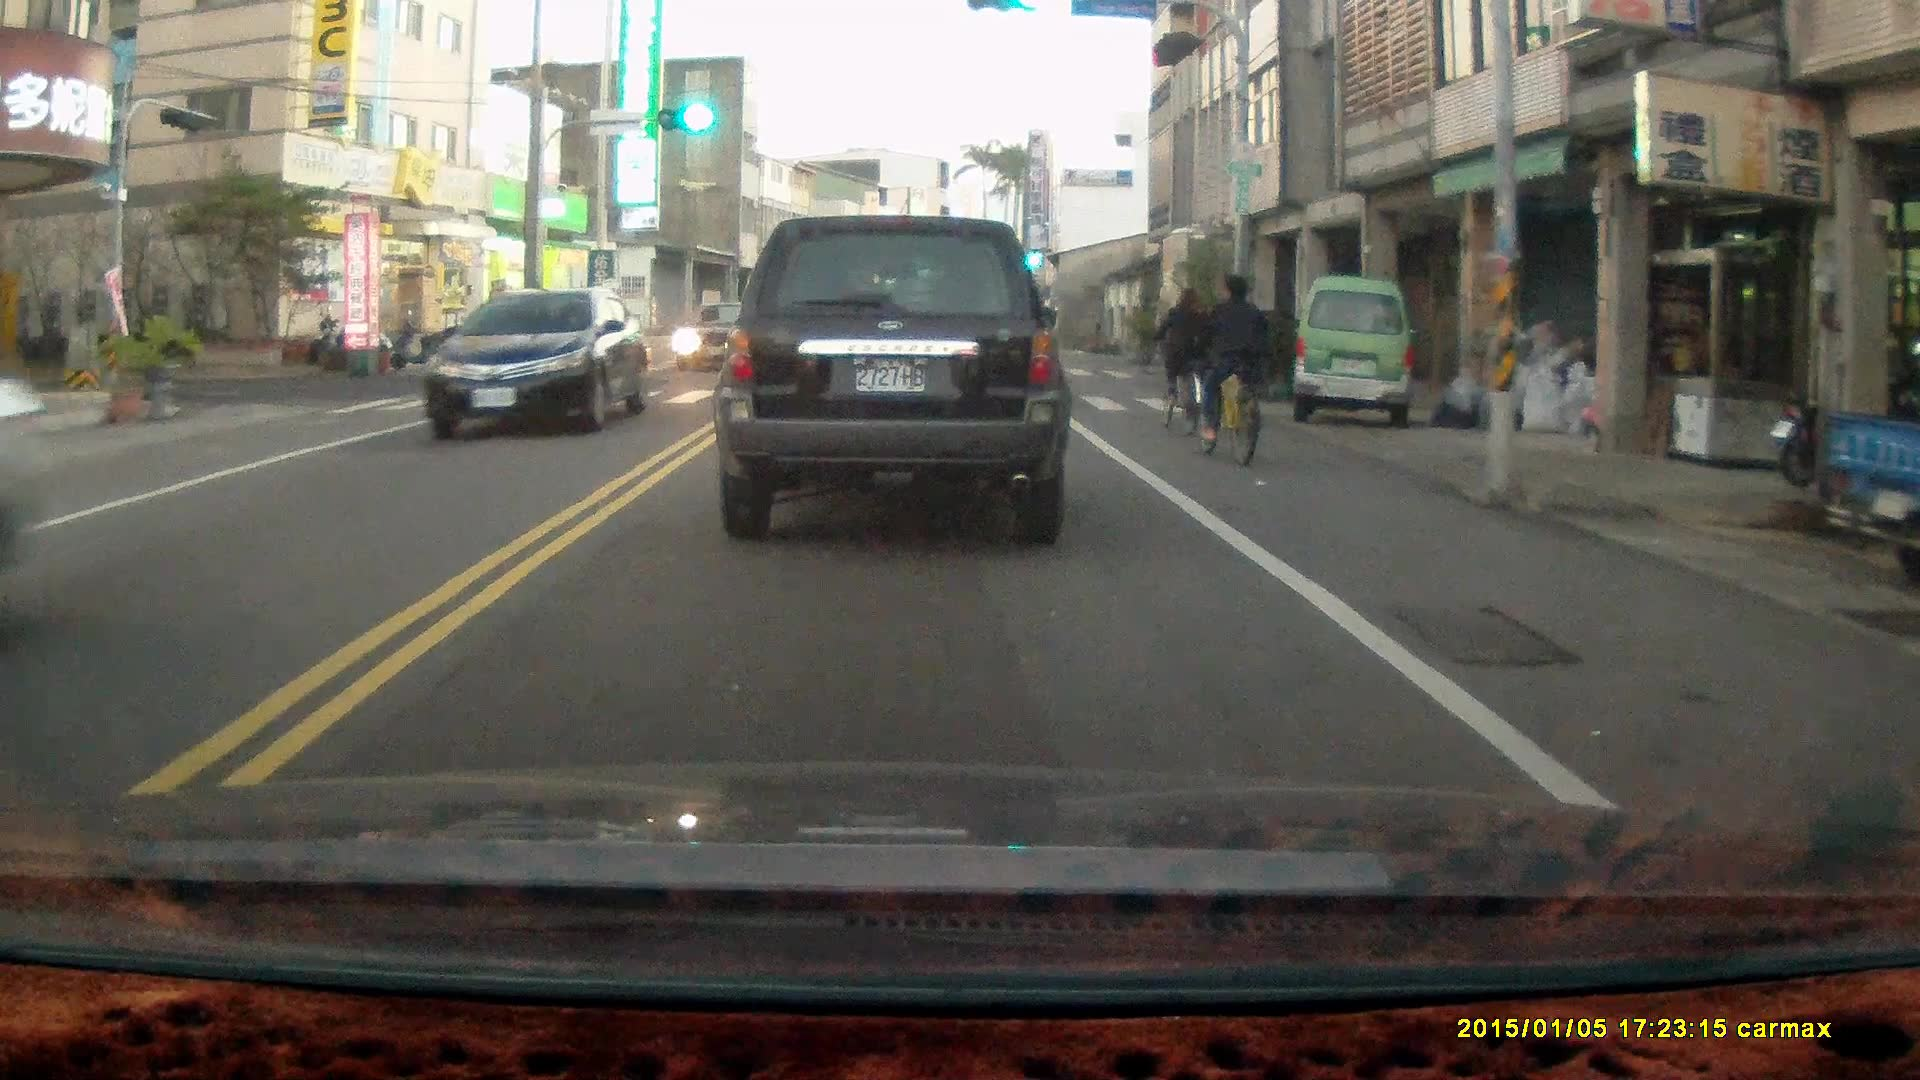rider: (1192, 269, 1267, 465), (1148, 281, 1213, 438)
vehicle: (716, 214, 1075, 542), (425, 285, 650, 443), (1291, 275, 1415, 431), (678, 299, 778, 376)
